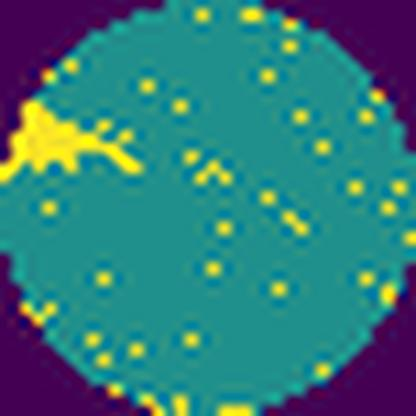Loc: (0, 101, 143, 183)
